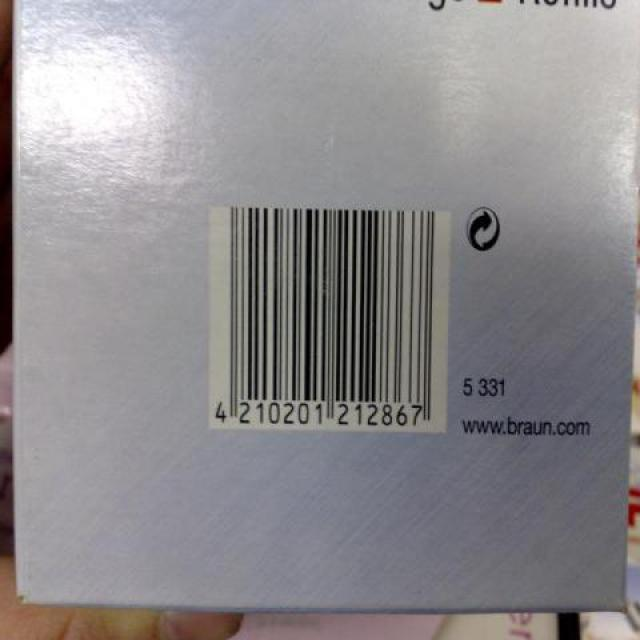Barcode: (208, 207, 449, 436)
